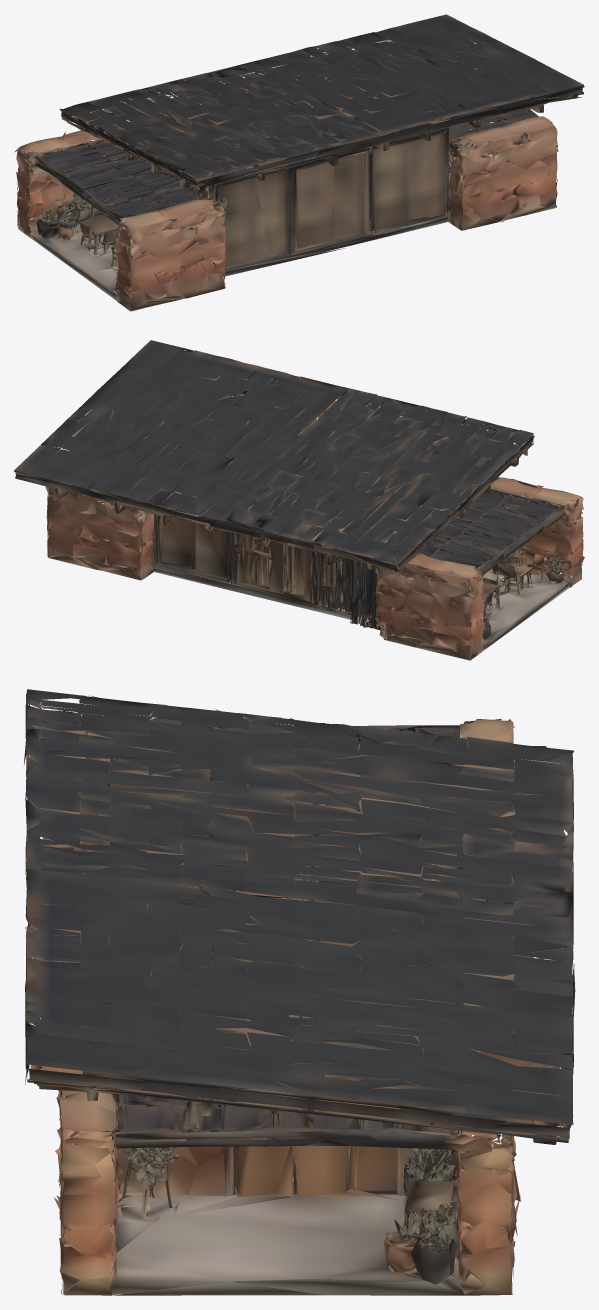
Rendered from restaurant.glb.
The picture shows the model from 3 angles, top to bottom: view 1: azimuth 30°, elevation 25°; view 2: azimuth 150°, elevation 25°; view 3: azimuth 270°, elevation 25°; orthographic projection. The views are drawn at different scales.
Visible parts, largest first — view 1: LO.001; view 2: LO.001; view 3: LO.001.
Boxes of the visible parts, x1,y1,x2,y2 form: LO.001: (14,14,584,311); LO.001: (14,340,584,660); LO.001: (24,689,575,1295).
Bounding box in the file's own units: 1.92 × 0.5221 × 1.03.
Materials: 1 (1 with a texture image).
